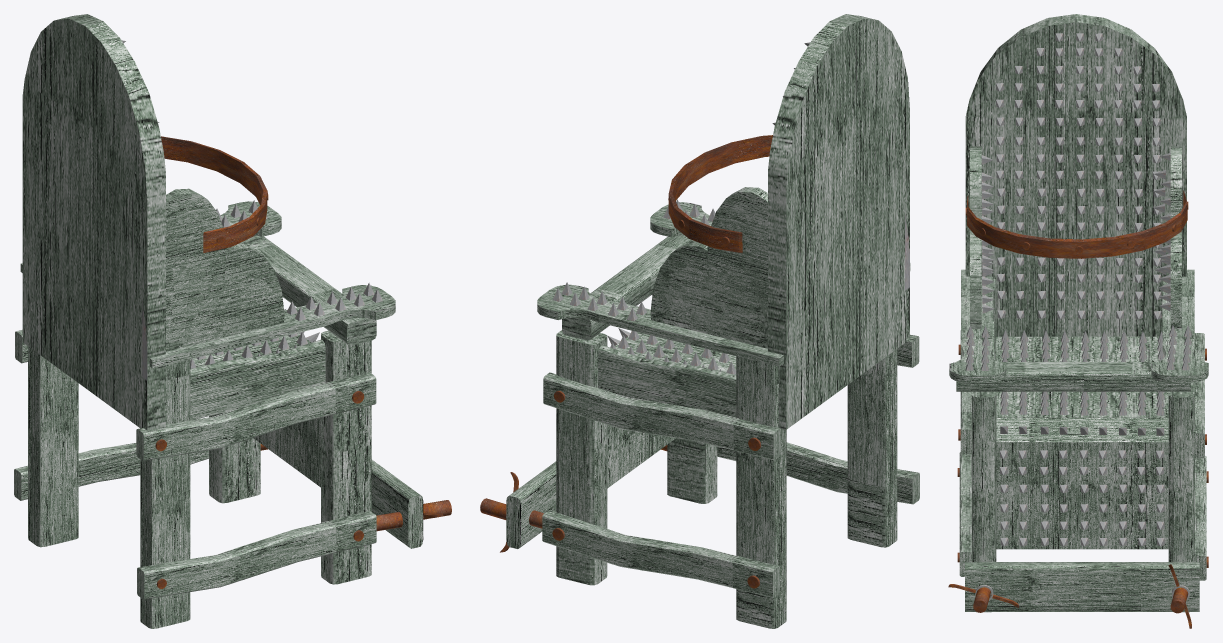
Rendered from tchair2.fbx.
The picture shows the model from 3 angles, left to right: view 1: azimuth 30°, elevation 25°; view 2: azimuth 150°, elevation 25°; view 3: azimuth 270°, elevation 25°; orthographic projection. The views are drawn at different scales.
Visible parts, largest first — view 1: pCube21, polySurface11, pCube9, pCube14, pCube20, pCube32, pCube31, pCube16, polySurface5, pCube25, pCube8, pCube7 (+5 smaller); view 2: pCube21, polySurface12, pCube9, pCube20, pCube7, pCube3, pCube10, pCube13, polySurface4, pCube25, pCube8, pCube32 (+6 smaller); view 3: pCube21, pCube4, pCube15, pCube12, pCube8, pCube7, pCube14, pCube25, pCube11, polySurface4, polySurface5, polySurface11 (+5 smaller).
Part boxes in pixels (x1=…): pCube21: x1=22, y1=14, x2=165, y2=430; polySurface11: x1=166, y1=188, x2=284, y2=351; pCube9: x1=28, y1=346, x2=78, y2=547; pCube14: x1=321, y1=330, x2=371, y2=584; pCube20: x1=140, y1=359, x2=190, y2=628; pCube32: x1=137, y1=511, x2=376, y2=599; pCube31: x1=136, y1=372, x2=376, y2=460; pCube16: x1=190, y1=339, x2=325, y2=420; polySurface5: x1=149, y1=285, x2=395, y2=368; pCube25: x1=161, y1=136, x2=267, y2=253; pCube8: x1=239, y1=235, x2=376, y2=345; pCube7: x1=209, y1=410, x2=260, y2=503; pCube21: x1=768, y1=14, x2=909, y2=429; polySurface12: x1=650, y1=187, x2=767, y2=348; pCube9: x1=736, y1=356, x2=786, y2=628; pCube20: x1=847, y1=349, x2=897, y2=547; pCube7: x1=556, y1=330, x2=607, y2=585; pCube3: x1=542, y1=510, x2=779, y2=597; pCube10: x1=543, y1=372, x2=780, y2=460; pCube13: x1=598, y1=345, x2=736, y2=417; polySurface4: x1=537, y1=284, x2=783, y2=366; pCube25: x1=668, y1=135, x2=772, y2=253; pCube8: x1=562, y1=235, x2=694, y2=340; pCube32: x1=717, y1=442, x2=919, y2=504; pCube21: x1=965, y1=14, x2=1186, y2=336; pCube4: x1=996, y1=442, x2=1168, y2=549; pCube15: x1=965, y1=562, x2=1199, y2=611; pCube12: x1=995, y1=336, x2=1168, y2=417; pCube8: x1=956, y1=362, x2=1190, y2=391; pCube7: x1=1168, y1=382, x2=1194, y2=612; pCube14: x1=971, y1=391, x2=996, y2=612; pCube25: x1=967, y1=190, x2=1187, y2=258; pCube11: x1=996, y1=418, x2=1168, y2=441; polySurface4: x1=1151, y1=269, x2=1208, y2=382; polySurface5: x1=949, y1=269, x2=1006, y2=382; polySurface11: x1=970, y1=146, x2=981, y2=328.
Bounding box in the file's own units: 12.74 × 21.61 × 10.23.
2 materials, 2 textured.
